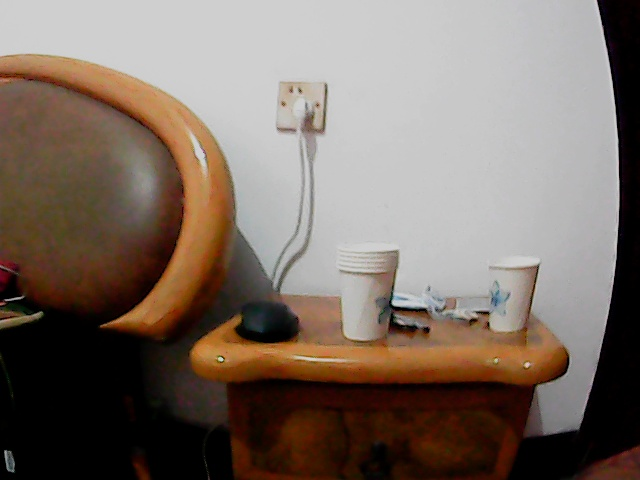cup: (334, 239, 400, 344)
mouse: (232, 296, 301, 346)
